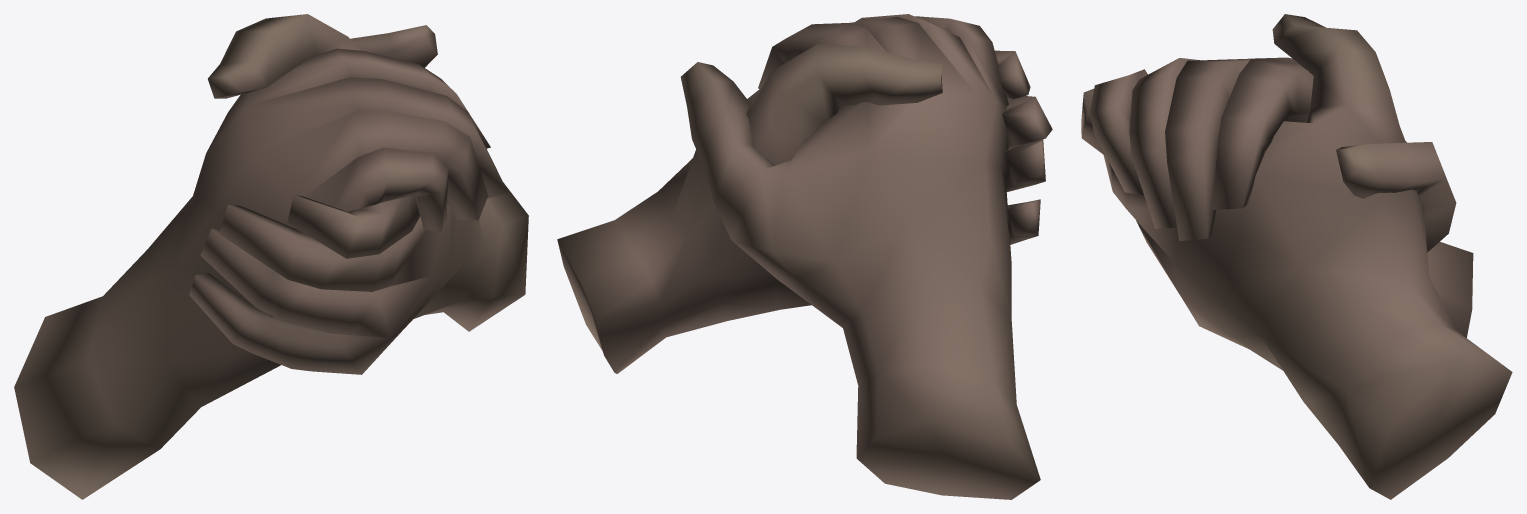
The model's file is human-household-items-hands_v1.glb.
3 renders of one model, left to right at view 1: azimuth 30°, elevation 25°; view 2: azimuth 150°, elevation 25°; view 3: azimuth 270°, elevation 25°, orthographic. The views are drawn at different scales.
Visible parts, largest first — view 1: Hands_v1; view 2: Hands_v1; view 3: Hands_v1.
Boxes of the visible parts, <box> form: Hands_v1: <box>14,14,528,499</box>; Hands_v1: <box>557,14,1052,499</box>; Hands_v1: <box>1081,14,1512,499</box>.
Size of the model in its own units: 0.2 by 0.1647 by 0.1553.
